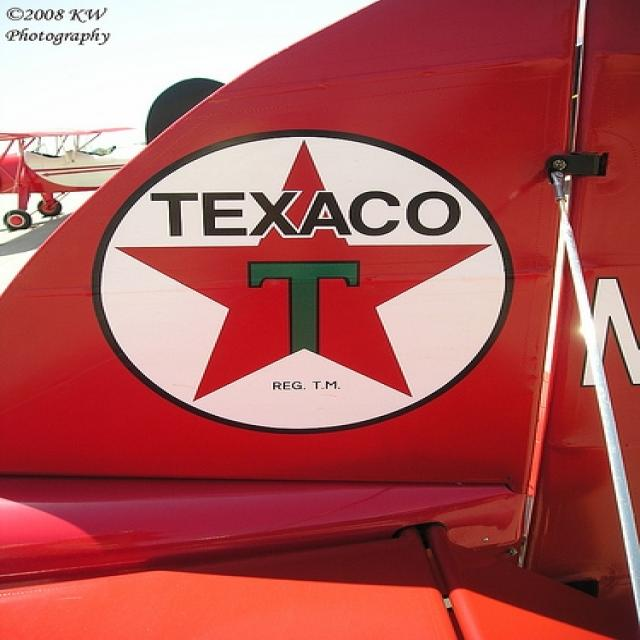texaco: (102, 136, 506, 433)
